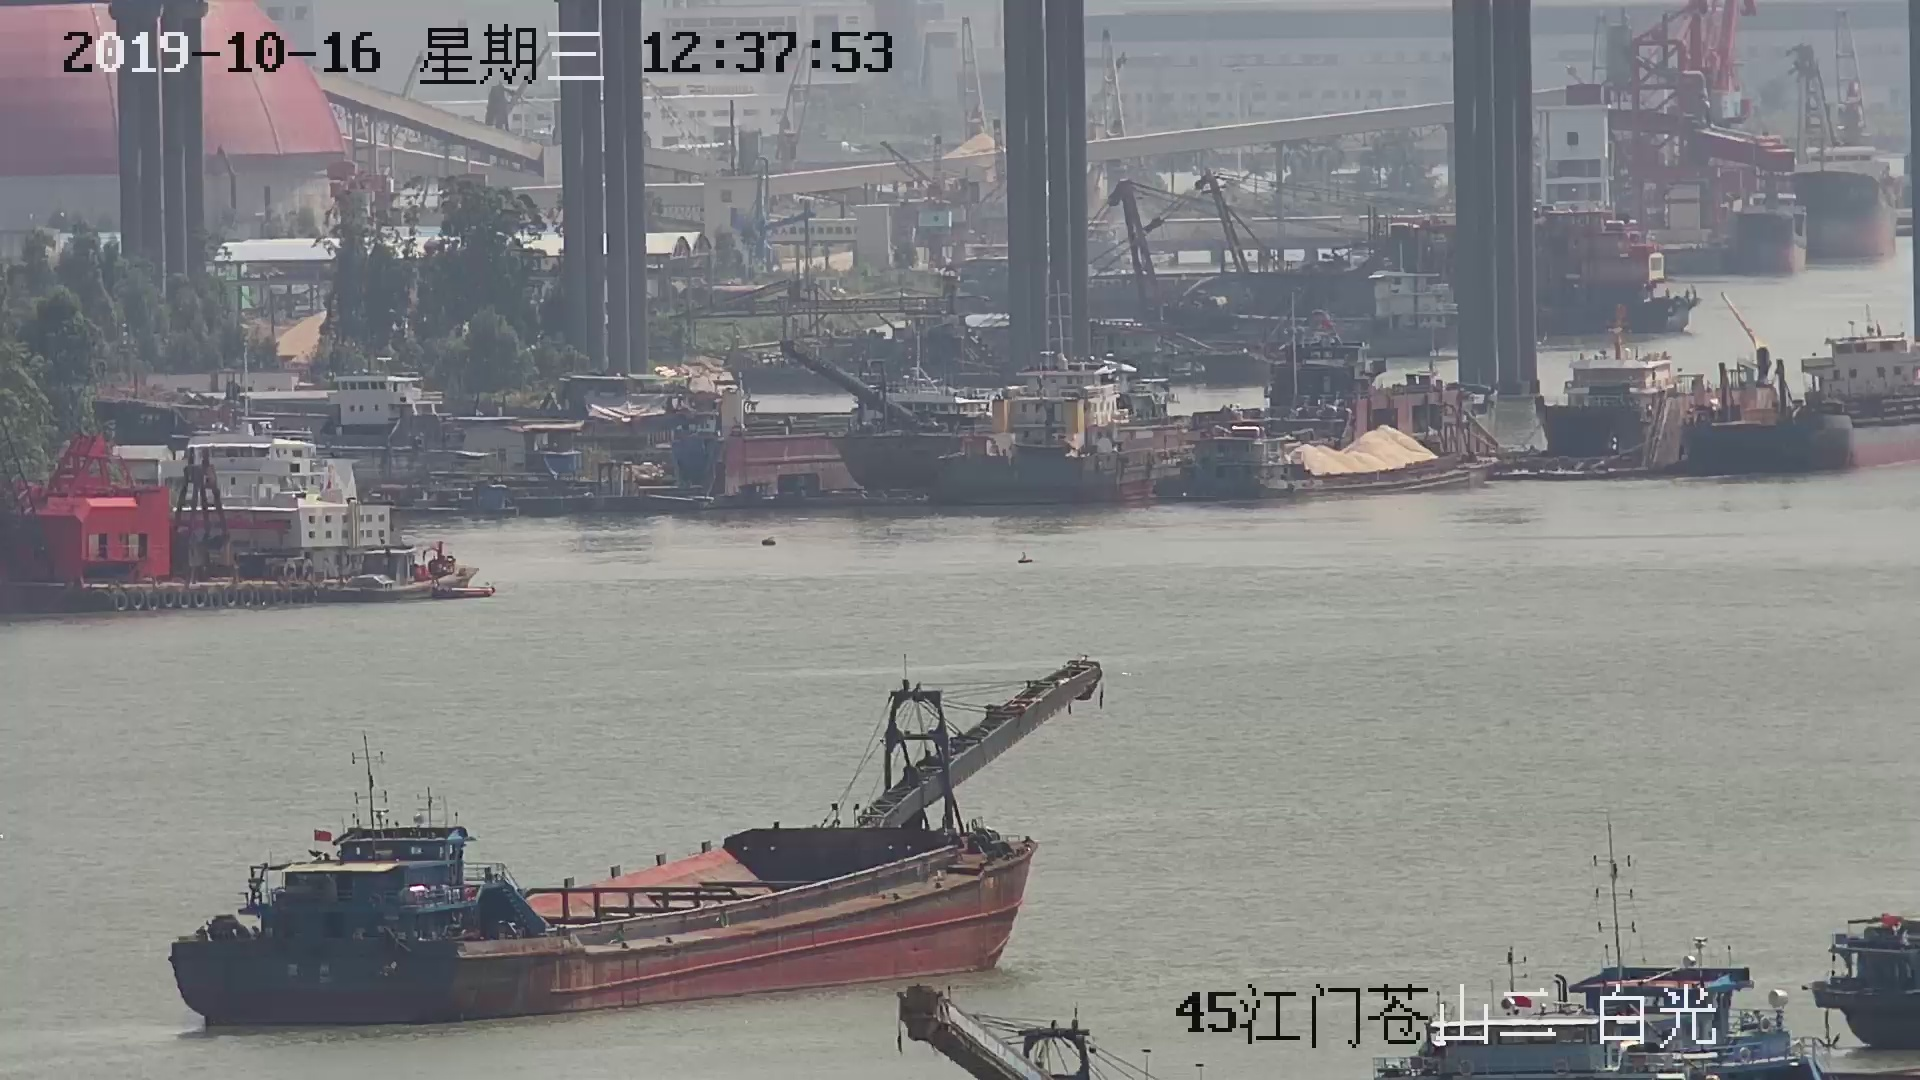ship: (162, 613, 1106, 1022)
